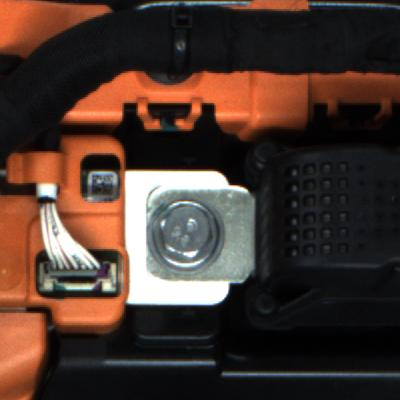nut_b: (142, 192, 225, 271)
